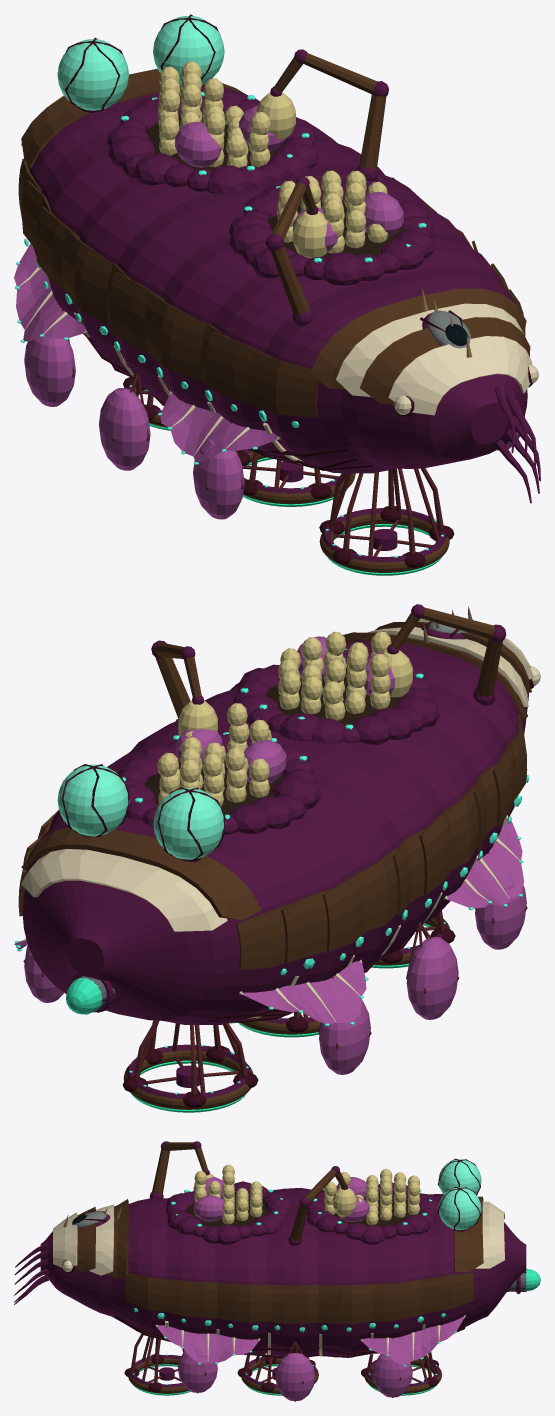
The model's file is cargo_barge.obj.
3 renders of one model, top to bottom at view 1: azimuth 30°, elevation 25°; view 2: azimuth 150°, elevation 25°; view 3: azimuth 270°, elevation 25°, orthographic. The views are drawn at different scales.
Visible parts, largest first — view 1: cargo_barge; view 2: cargo_barge; view 3: cargo_barge.
Part boxes in pixels (x1,y1,x2,y2): cargo_barge: [14, 14, 540, 575]; cargo_barge: [14, 604, 540, 1112]; cargo_barge: [14, 1141, 540, 1401].
Bounding box in the file's own units: 274 × 290 × 600.
Materials: 1 (1 with a texture image).
